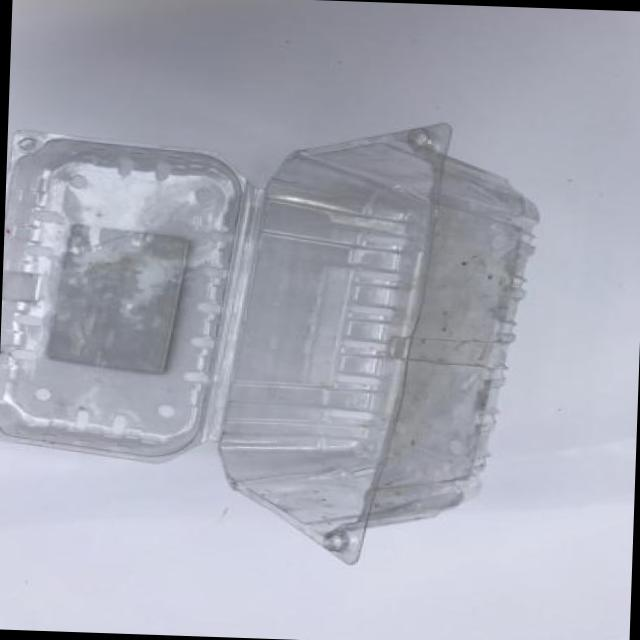Clamshell: (0, 95, 563, 584)
Label: (26, 212, 200, 380)
